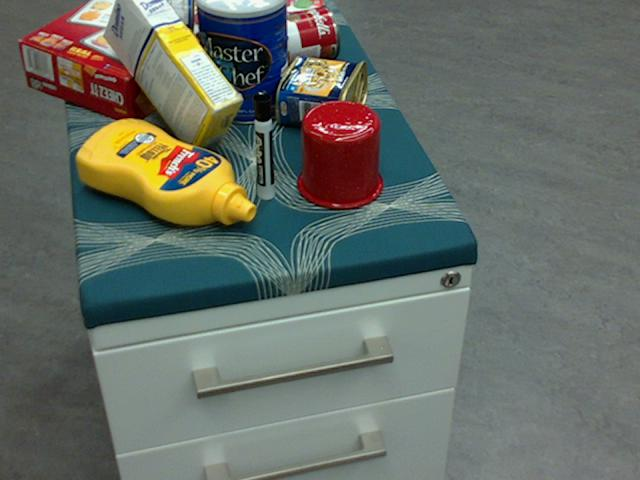cracker_box: (19, 0, 236, 125)
gelatin_box: (257, 0, 324, 39)
large_marker: (252, 90, 273, 198)
master_chef_can: (195, 0, 288, 124)
mug: (294, 99, 381, 208)
mustard_bottle: (75, 119, 255, 224)
potted_meat_can: (275, 54, 367, 135)
sugar_box: (104, 0, 244, 156)
tomato_soup_can: (246, 4, 340, 72)
tuna_fish_can: (159, 0, 192, 51)
